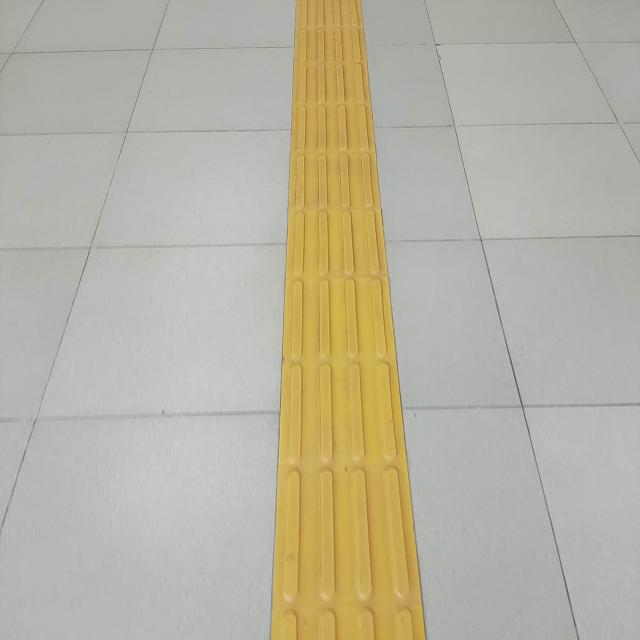lurus: (280, 0, 418, 640)
